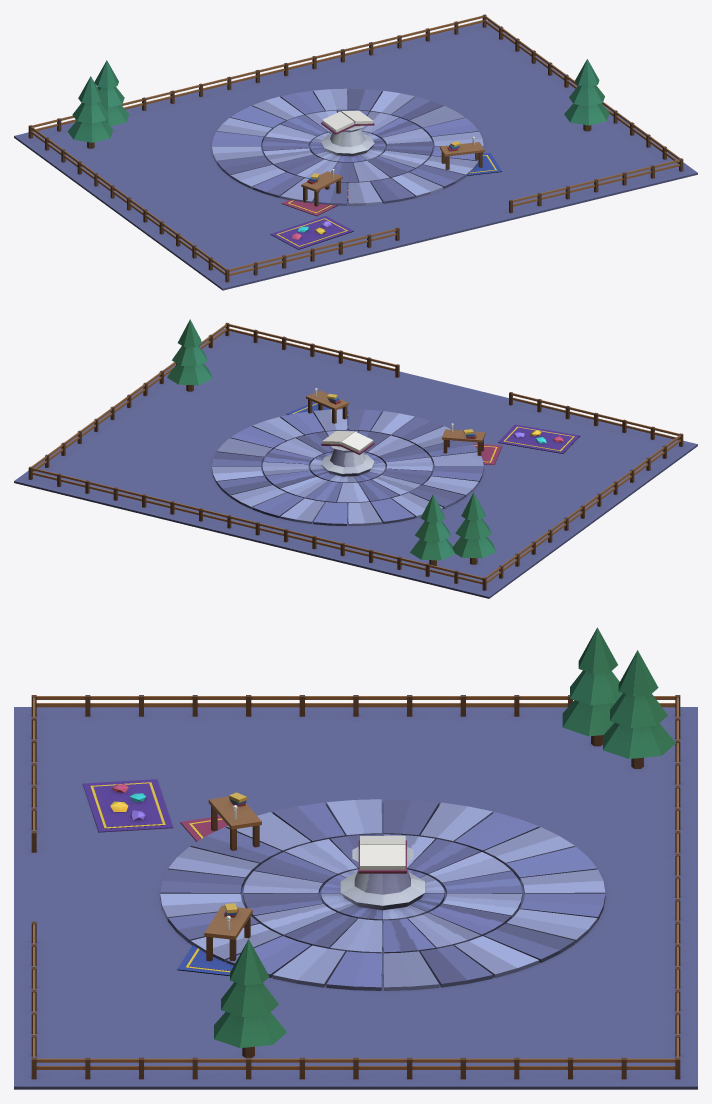
The model's file is area_library_1_5.fbx.
3 views of the same model, one above another, from view 1: azimuth 30°, elevation 25°; view 2: azimuth 150°, elevation 25°; view 3: azimuth 270°, elevation 25° (orthographic). The views are drawn at different scales.
Visible parts, largest first — view 1: area_library_1_5_body; view 2: area_library_1_5_body; view 3: area_library_1_5_body.
Boxes of the visible parts, box(x1,y1,x2,y2) form: area_library_1_5_body: box(14, 14, 697, 290); area_library_1_5_body: box(14, 319, 697, 598); area_library_1_5_body: box(14, 627, 697, 1089).
Bounding box in the file's own units: 16750 × 2463 × 12750.
Materials: 2 (1 with a texture image).
